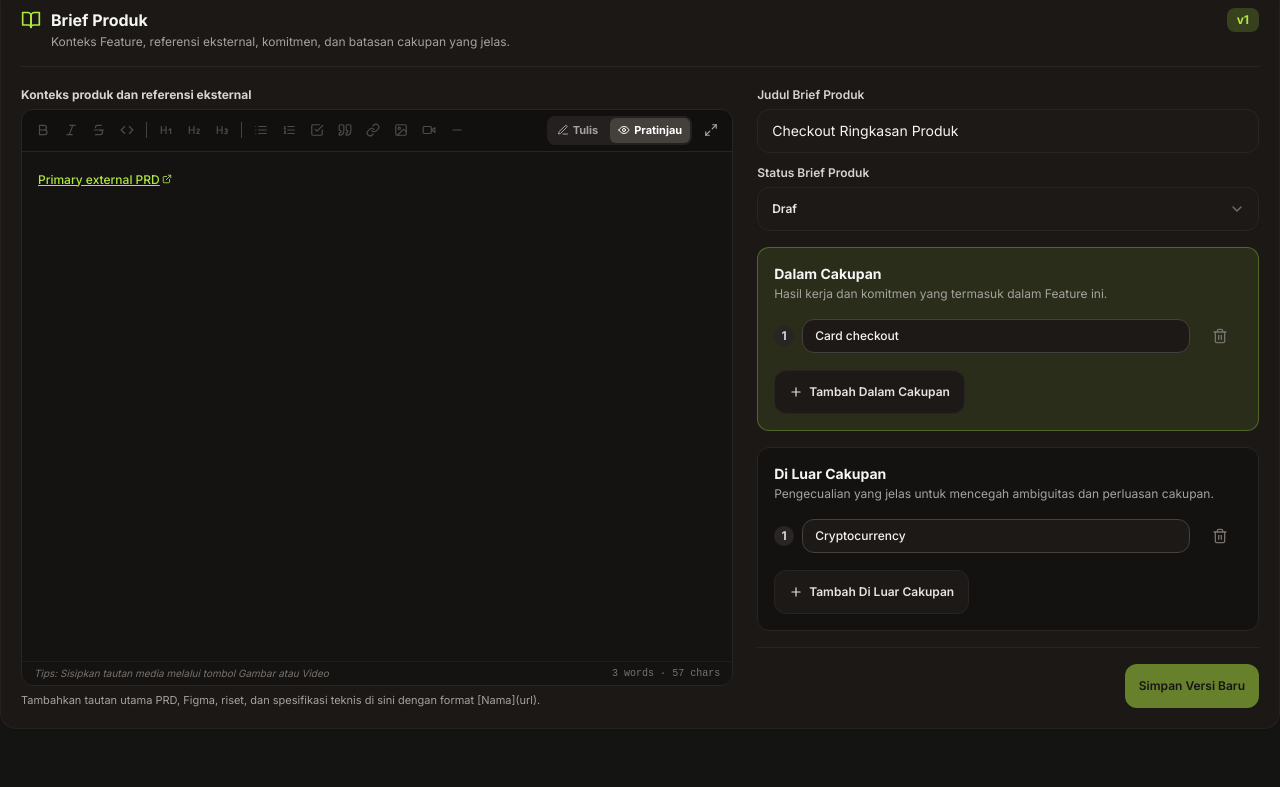
Test: TaskDetailProductBriefTab › announces unsaved changes and clears the dirty state after saving
Expected: the text "Perubahan belum disimpan" is not shown
Expected: the button "Simpan Versi Baru" is disabled, x1=1125 y1=664 x2=1259 y2=708
Replace the text in the field showing "Card checkout" with "Card checkout baru" at (996, 336), box x1=802 y1=319 x2=1190 y2=353
(page scrolled)
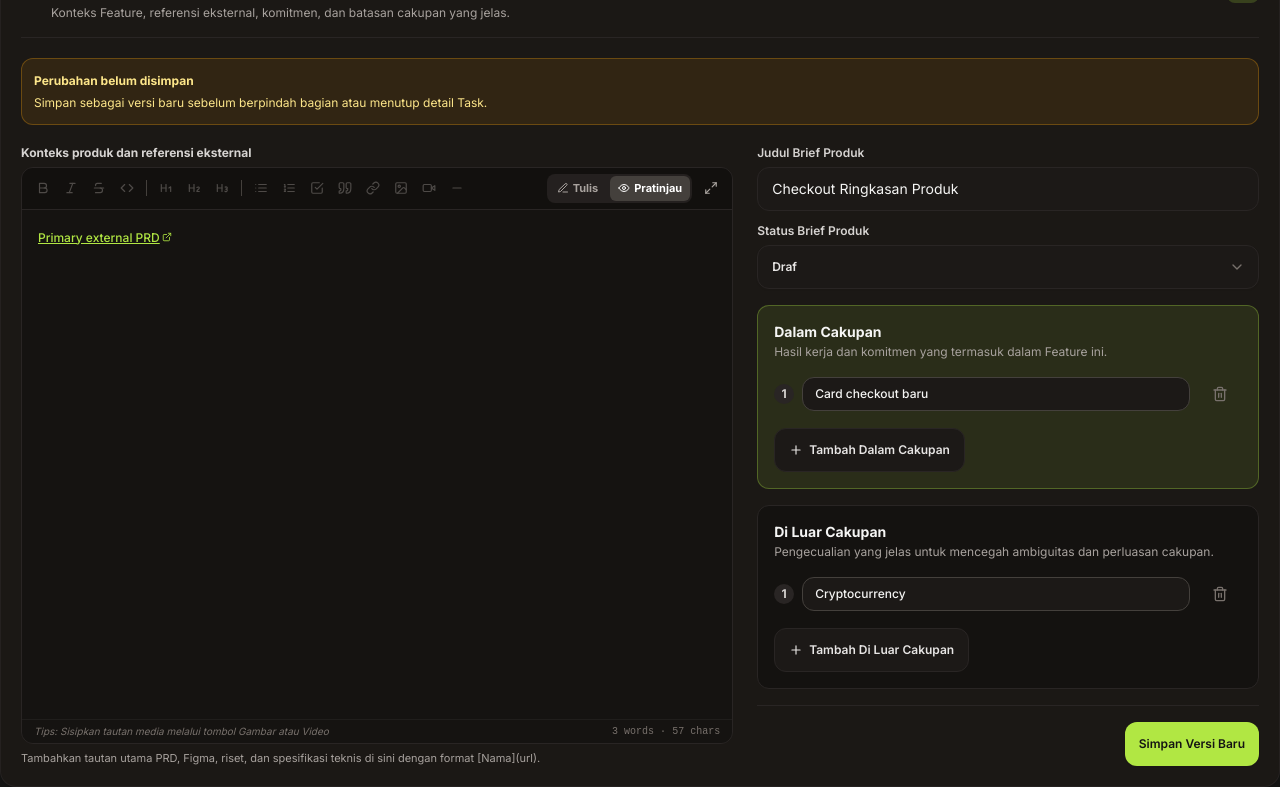
Now the text "Perubahan belum disimpan" is shown, box x1=34 y1=73 x2=194 y2=88
Now the button "Simpan Versi Baru" is enabled
Click the button "Simpan Versi Baru" at (1192, 744), box x1=1125 y1=722 x2=1259 y2=766
(page scrolled)
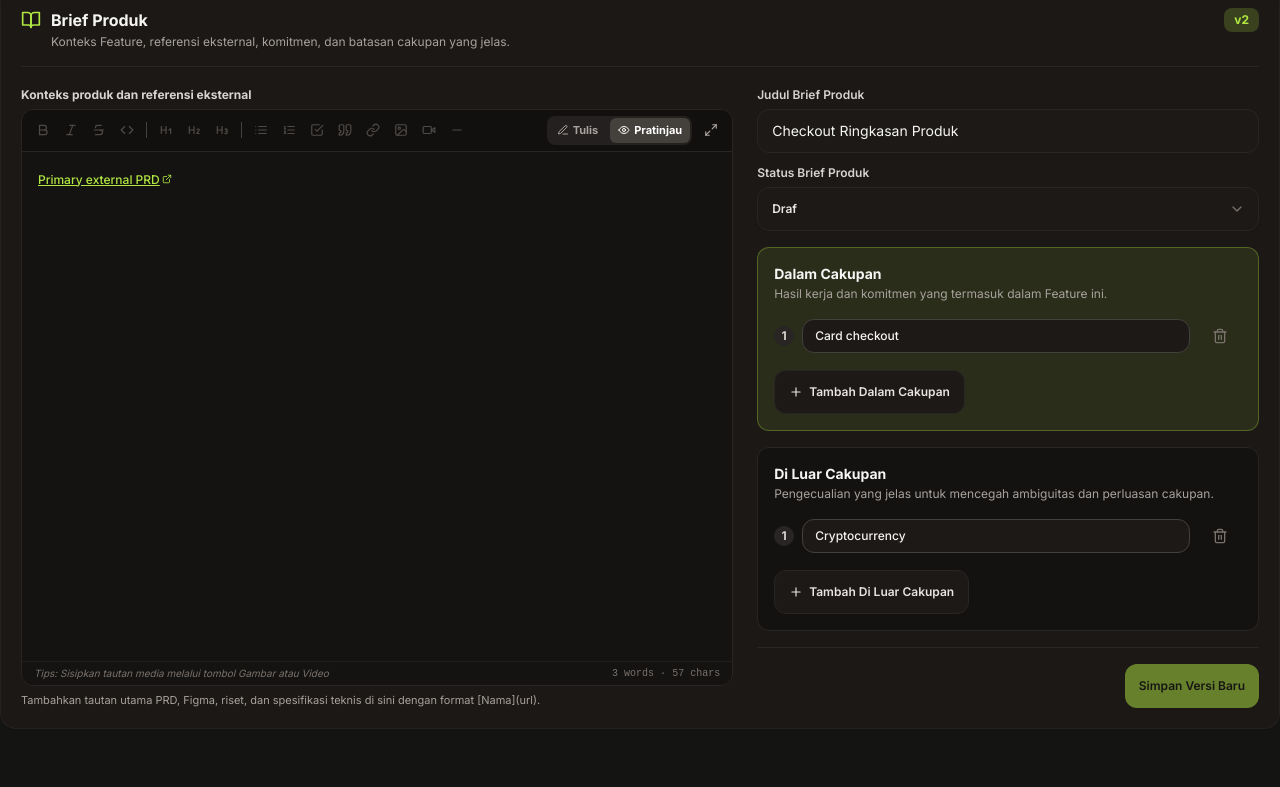
Now the text "Perubahan belum disimpan" is gone
